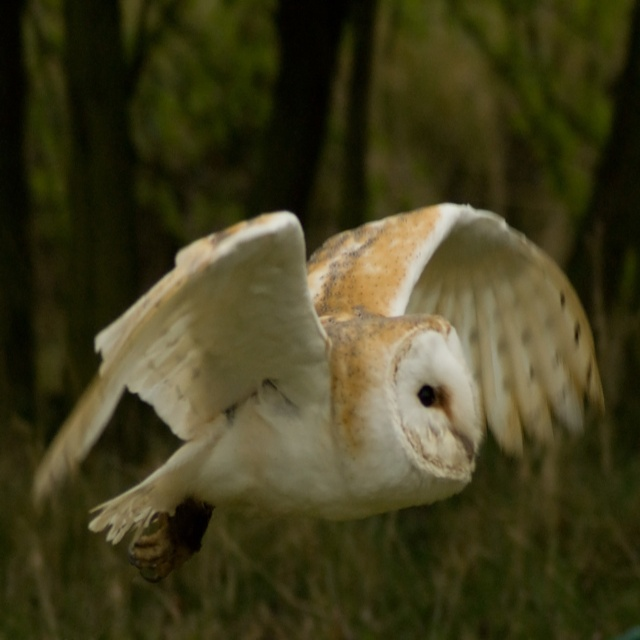Owl: (30, 202, 609, 549)
